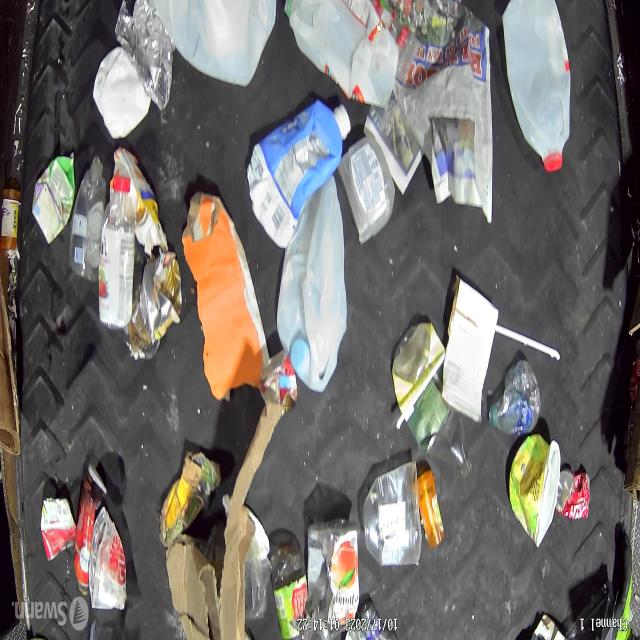can: (140, 257, 182, 339), (40, 496, 76, 562), (556, 466, 588, 522)
milk_jug: (277, 172, 349, 393), (502, 0, 571, 172), (284, 0, 396, 104), (150, 0, 276, 89)
non_white_jug: (247, 99, 351, 246)
plastic_bottle: (68, 157, 105, 282), (486, 359, 540, 435)
